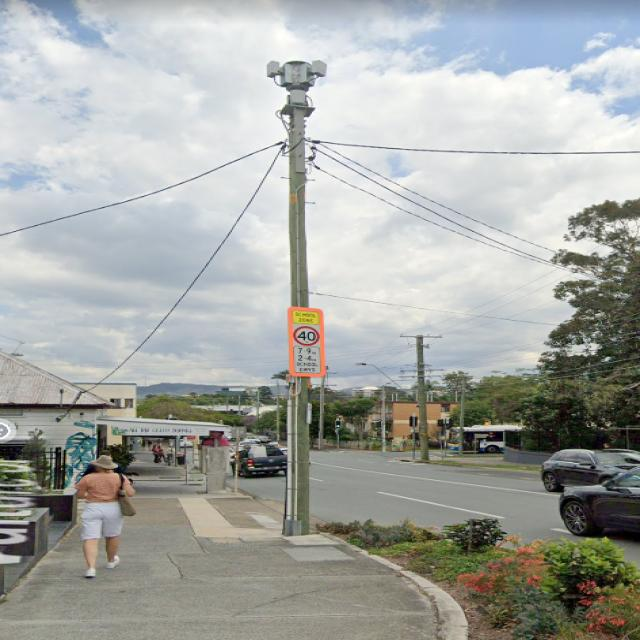crossarm: (400, 334, 442, 340), (398, 369, 445, 372), (397, 375, 443, 378)
small cell pole: (265, 59, 327, 537)
steel-pole: (411, 414, 417, 459), (443, 418, 448, 458), (335, 417, 341, 449)
streetlight: (355, 362, 419, 402)
timber-pole: (281, 104, 312, 536), (413, 338, 428, 462), (457, 377, 466, 457), (380, 386, 388, 453)
traffic-light: (437, 418, 455, 430), (410, 417, 418, 428), (334, 420, 342, 429)
